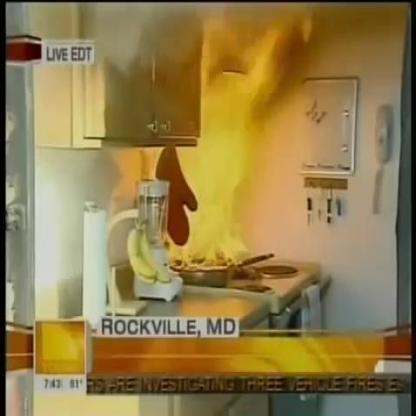fire: (155, 20, 310, 272)
